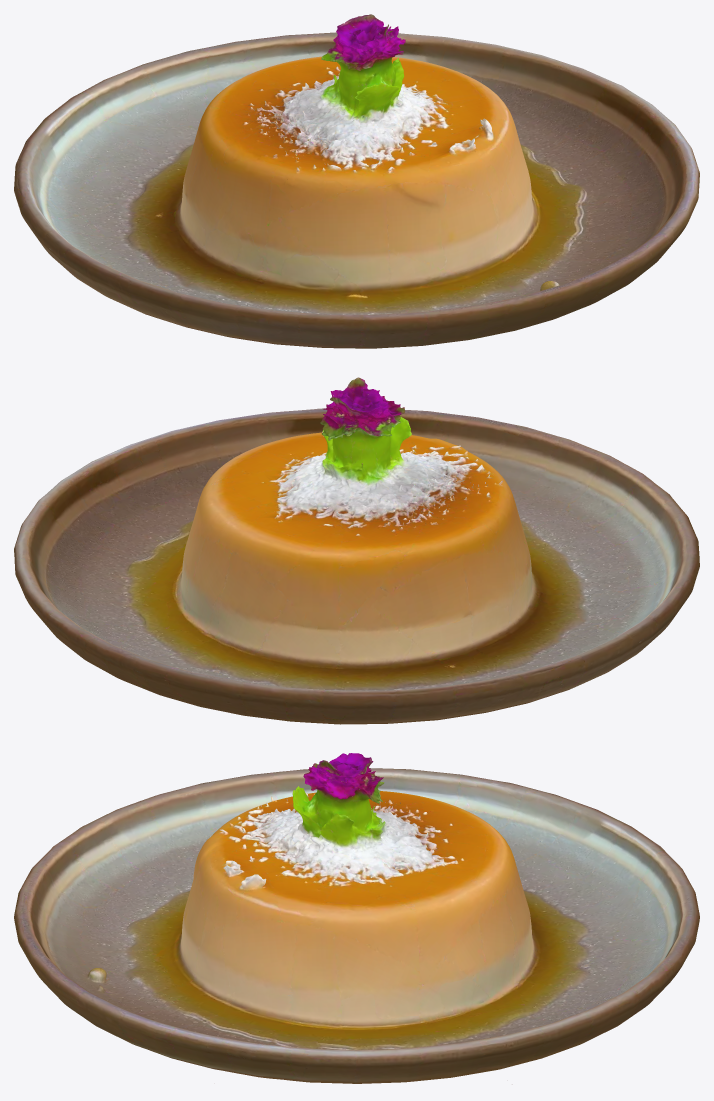
The model's file is Caramel_Pudding.glb.
The picture shows the model from 3 angles, top to bottom: view 1: azimuth 30°, elevation 25°; view 2: azimuth 150°, elevation 25°; view 3: azimuth 270°, elevation 25°; orthographic projection.
Size of the model in its own units: 1.9 by 0.7817 by 1.9.
1 material, 1 textured.
